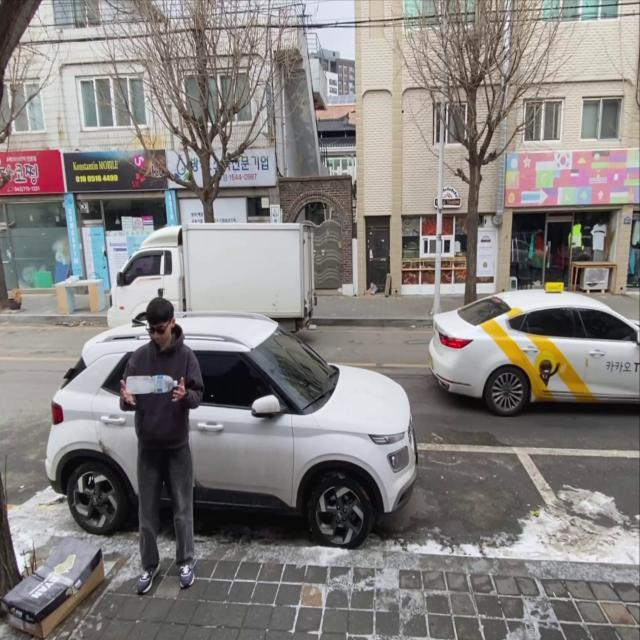bare_hand: (169, 374, 187, 406), (121, 379, 140, 409)
